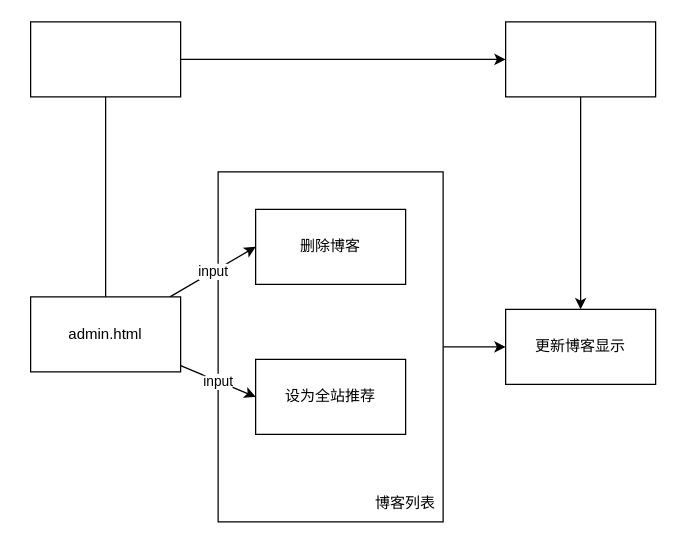
Image size: 678x544. Some labels were removed from this diagram. The shapes that lost their labels are listed below. From the top down, each one's centre as x and y in pixels, then its label:
At (x=105, y=59): "翻页".
At (x=580, y=59): "获取最新博客列表".
